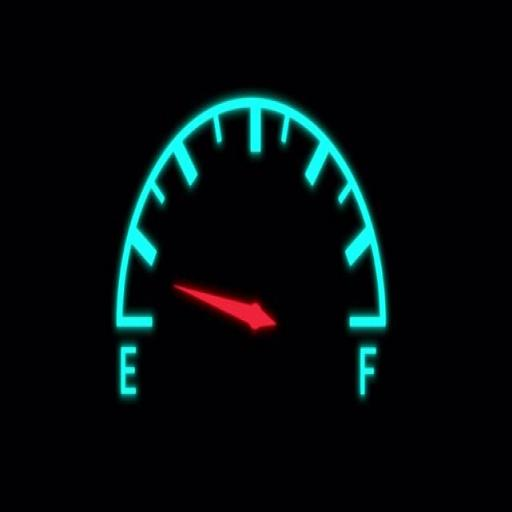empty: (118, 344, 139, 400)
full: (352, 338, 379, 400)
guage_area: (111, 84, 393, 416)
needle_center: (240, 288, 274, 346)
needle_tip: (167, 276, 197, 307)
